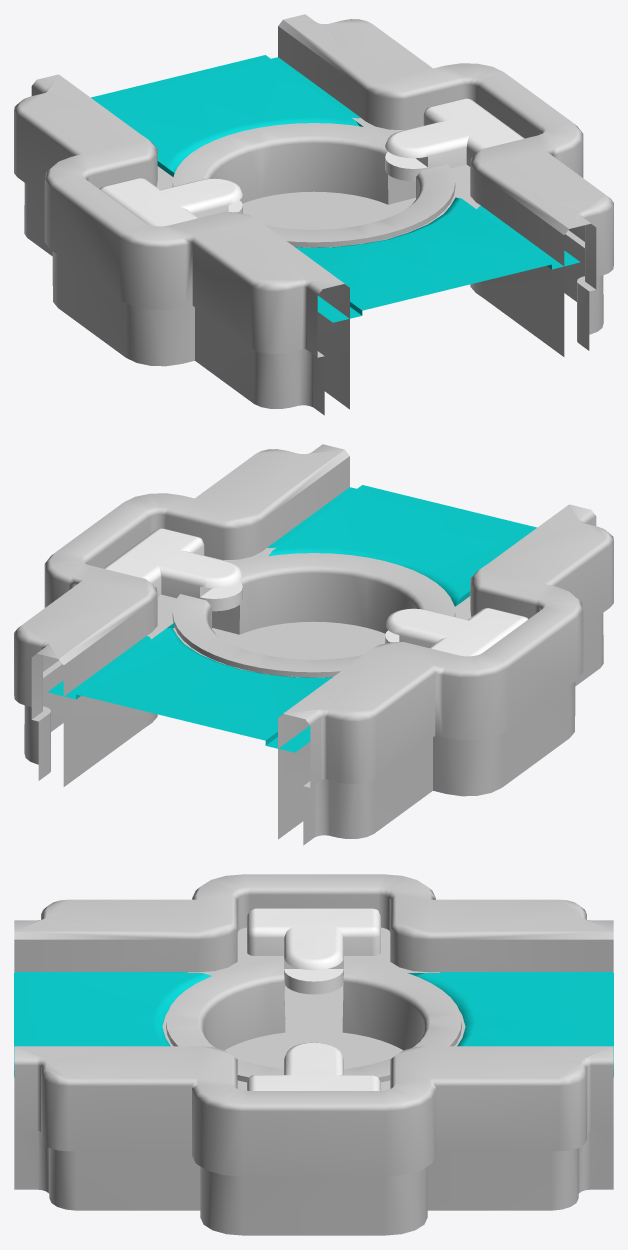
The model's file is PinPusherDefaultInternalVariant.gltf.
3 renders of one model, top to bottom at view 1: azimuth 30°, elevation 25°; view 2: azimuth 150°, elevation 25°; view 3: azimuth 270°, elevation 25°, orthographic. The views are drawn at different scales.
Parts seen in each view (by area): view 1: PinPusher_Default_Main_LOD0, PinPusher_Default_ClampR_LOD0, PinPusher_Default_ClampL_LOD0, PinPusher_Default_Rotator_LOD0; view 2: PinPusher_Default_Main_LOD0, PinPusher_Default_ClampR_LOD0, PinPusher_Default_ClampL_LOD0, PinPusher_Default_Rotator_LOD0; view 3: PinPusher_Default_Main_LOD0, PinPusher_Default_ClampL_LOD0, PinPusher_Default_ClampR_LOD0, PinPusher_Default_Rotator_LOD0.
Part boxes in pixels (x1=…): PinPusher_Default_Main_LOD0: x1=14, y1=14, x2=613, y2=415; PinPusher_Default_ClampR_LOD0: x1=385, y1=98, x2=524, y2=181; PinPusher_Default_ClampL_LOD0: x1=99, y1=178, x2=242, y2=226; PinPusher_Default_Rotator_LOD0: x1=242, y1=191, x2=400, y2=229; PinPusher_Default_Main_LOD0: x1=14, y1=444, x2=613, y2=845; PinPusher_Default_ClampR_LOD0: x1=103, y1=528, x2=242, y2=611; PinPusher_Default_ClampL_LOD0: x1=385, y1=608, x2=528, y2=656; PinPusher_Default_Rotator_LOD0: x1=227, y1=621, x2=385, y2=659; PinPusher_Default_Main_LOD0: x1=14, y1=874, x2=613, y2=1235; PinPusher_Default_ClampL_LOD0: x1=247, y1=908, x2=380, y2=994; PinPusher_Default_ClampR_LOD0: x1=247, y1=1042, x2=380, y2=1090; PinPusher_Default_Rotator_LOD0: x1=225, y1=1031, x2=402, y2=1068.
Size of the model in its own units: 0.924 by 0.245 by 1.
